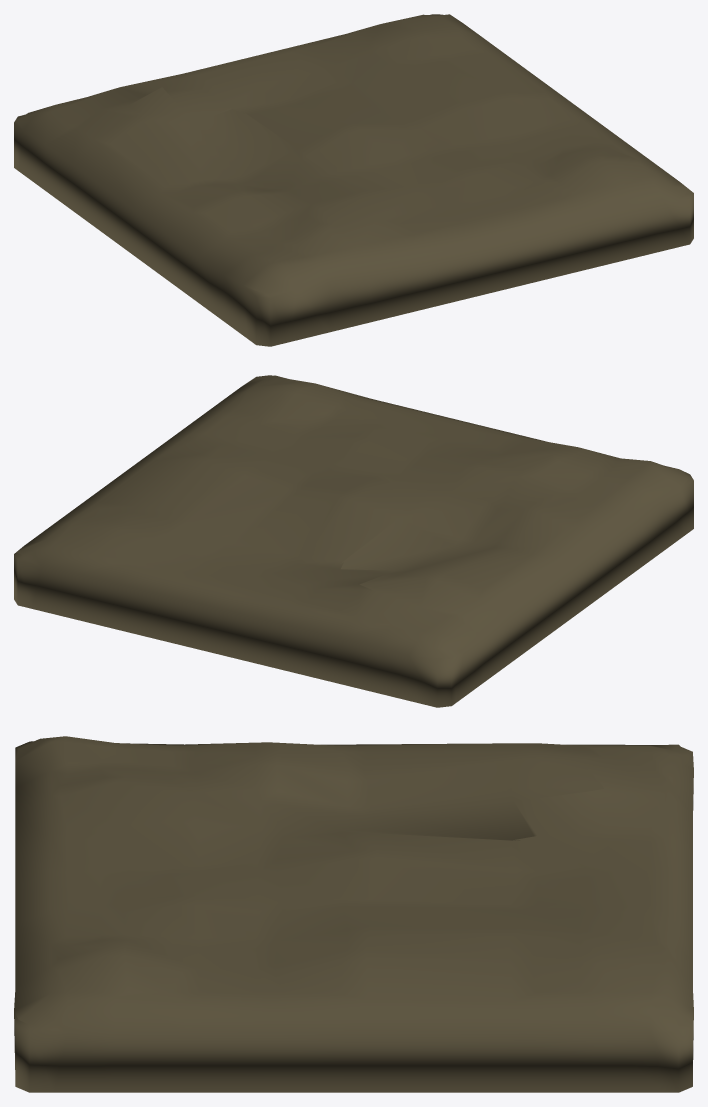
File: block 3.fbx
3 views of the same model, one above another, from view 1: azimuth 30°, elevation 25°; view 2: azimuth 150°, elevation 25°; view 3: azimuth 270°, elevation 25° (orthographic). The views are drawn at different scales.
Parts seen in each view (by area): view 1: Cube.063; view 2: Cube.063; view 3: Cube.063.
Part boxes in pixels (bbox=[...]): Cube.063: bbox=[14, 14, 693, 346]; Cube.063: bbox=[14, 375, 693, 707]; Cube.063: bbox=[14, 736, 693, 1092].
Size of the model in its own units: 332 by 53.31 by 331.
